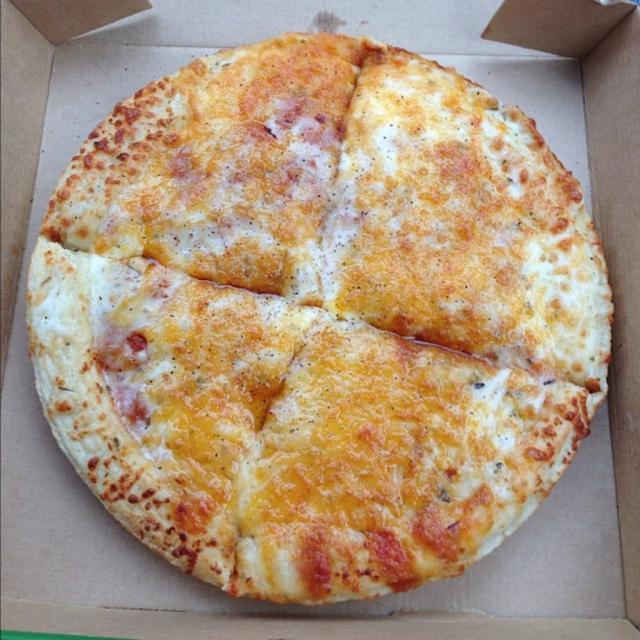Pizza: (19, 37, 639, 611)
